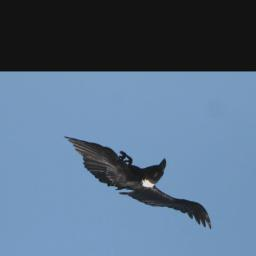Crow: (63, 136, 213, 232)
